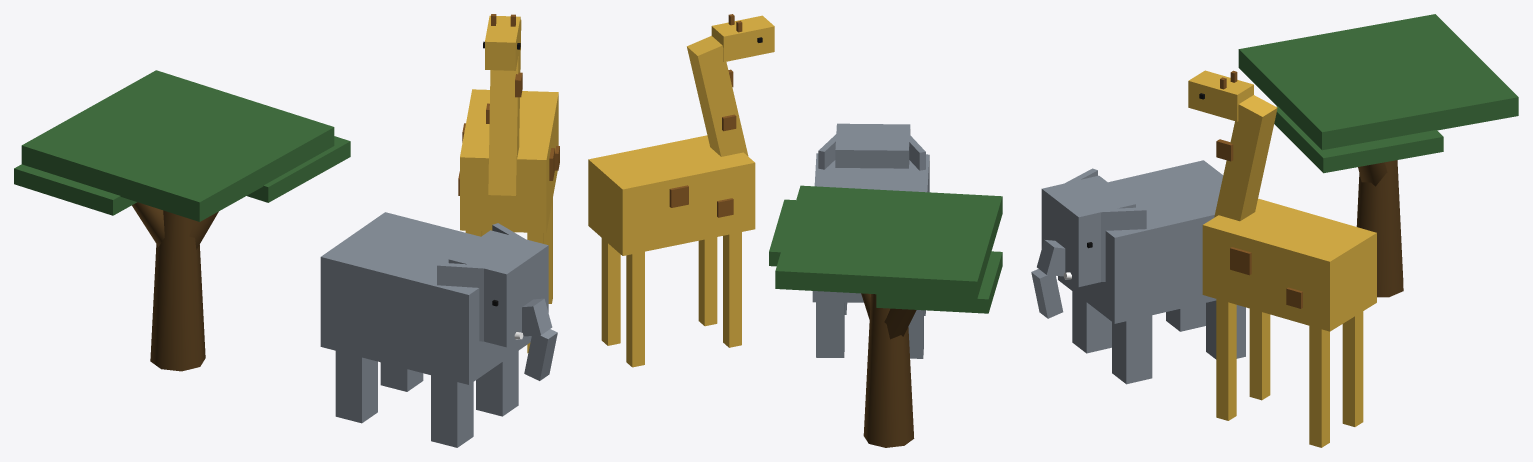
The model's file is kenya.glb.
The picture shows the model from 3 angles, left to right: view 1: azimuth 30°, elevation 25°; view 2: azimuth 150°, elevation 25°; view 3: azimuth 270°, elevation 25°; orthographic projection. The views are drawn at different scales.
Parts seen in each view (by area): view 1: AcaciaTree, Body (×2), Head (×2), Neck, Leg_0, Leg_2, Elephant, Leg_1, EarL, Leg_3; view 2: AcaciaTree, Body (×2), Head (×2), Neck, Leg_3 (×2), Leg_2 (×2), Leg_0, Leg_1, EarR, EarL; view 3: AcaciaTree, Body (×2), Head (×2), Leg_1 (×2), Neck, Leg_0 (×2), Leg_3 (×2), Leg_2 (×2), Elephant, EarR, Spot_0.
Boxes of the visible parts, <box> form: AcaciaTree: <box>14,70,350,371</box>; Body (×2): <box>320,89,558,384</box>; Head (×2): <box>448,15,548,347</box>; Neck: <box>488,20,521,195</box>; Leg_0: <box>431,375,473,447</box>; Leg_2: <box>335,351,377,423</box>; Elephant: <box>492,298,557,380</box>; Leg_1: <box>476,351,518,416</box>; EarL: <box>437,262,498,341</box>; Leg_3: <box>380,362,423,391</box>; AcaciaTree: <box>769,185,1002,447</box>; Body (×2): <box>588,135,929,302</box>; Head (×2): <box>711,15,910,168</box>; Neck: <box>687,36,748,156</box>; Leg_3 (×2): <box>601,238,844,357</box>; Leg_2 (×2): <box>626,251,923,367</box>; Leg_0: <box>723,232,741,347</box>; Leg_1: <box>698,237,717,326</box>; EarR: <box>818,129,847,169</box>; EarL: <box>901,129,925,170</box>; AcaciaTree: <box>1238,14,1518,297</box>; Body (×2): <box>1058,160,1376,331</box>; Head (×2): <box>1041,70,1253,286</box>; Leg_1 (×2): <box>1112,299,1236,420</box>; Neck: <box>1214,95,1277,221</box>; Leg_0 (×2): <box>1072,291,1270,400</box>; Leg_3 (×2): <box>1206,300,1329,447</box>; Leg_2 (×2): <box>1166,303,1363,426</box>; Elephant: <box>1031,240,1092,318</box>; EarR: <box>1087,207,1146,281</box>; Spot_0: <box>1230,247,1251,275</box>.
Size of the model in its own units: 9.15 by 6.08 by 8.22.
